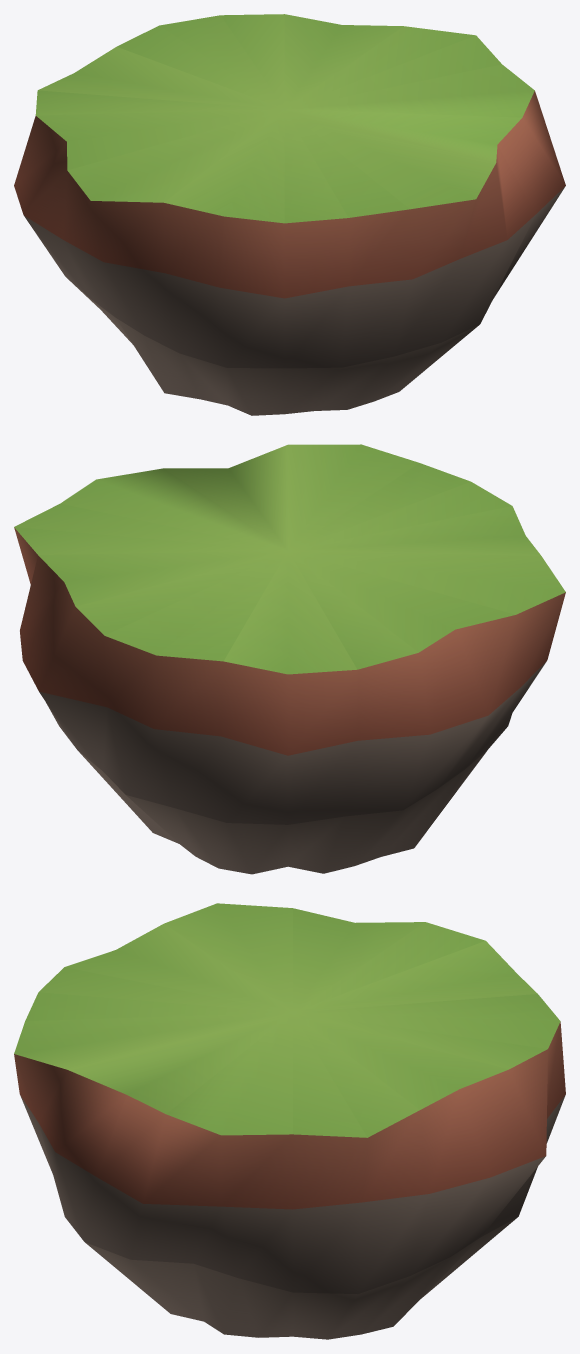
File: islet_c.glb
The picture shows the model from 3 angles, top to bottom: view 1: azimuth 30°, elevation 25°; view 2: azimuth 150°, elevation 25°; view 3: azimuth 270°, elevation 25°; orthographic projection. The views are drawn at different scales.
Visible parts, largest first — view 1: islet_c; view 2: islet_c; view 3: islet_c.
Part boxes in pixels (left/top/right/bottom): islet_c: left=14, top=14, right=565, bottom=415; islet_c: left=14, top=444, right=565, bottom=874; islet_c: left=14, top=903, right=565, bottom=1339.
Bounding box in the file's own units: 14.68 × 9 × 14.43.
Materials: 1 (1 with a texture image).
